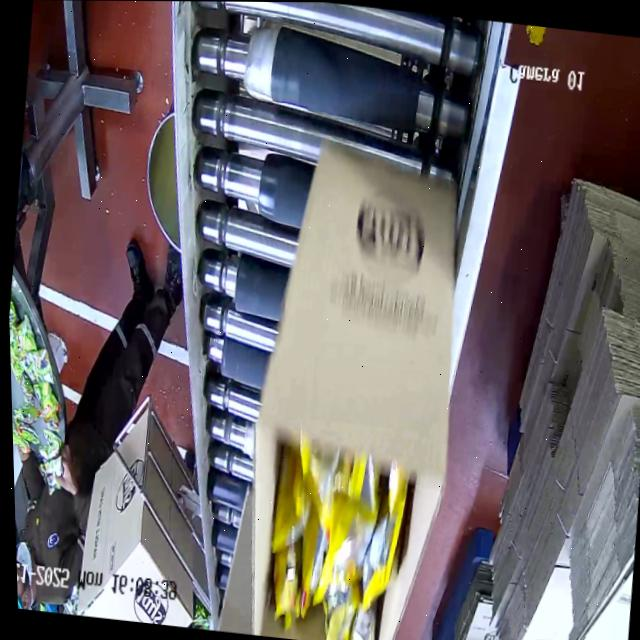SALTED: (249, 437, 405, 640)
